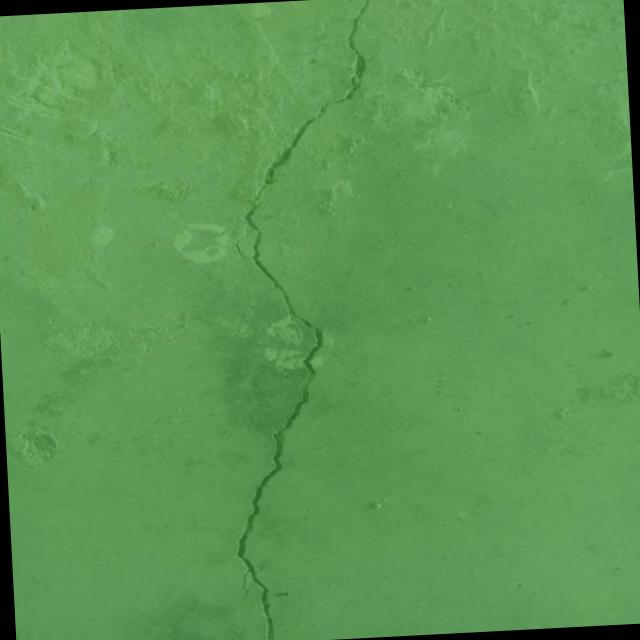crack: (197, 0, 404, 640)
